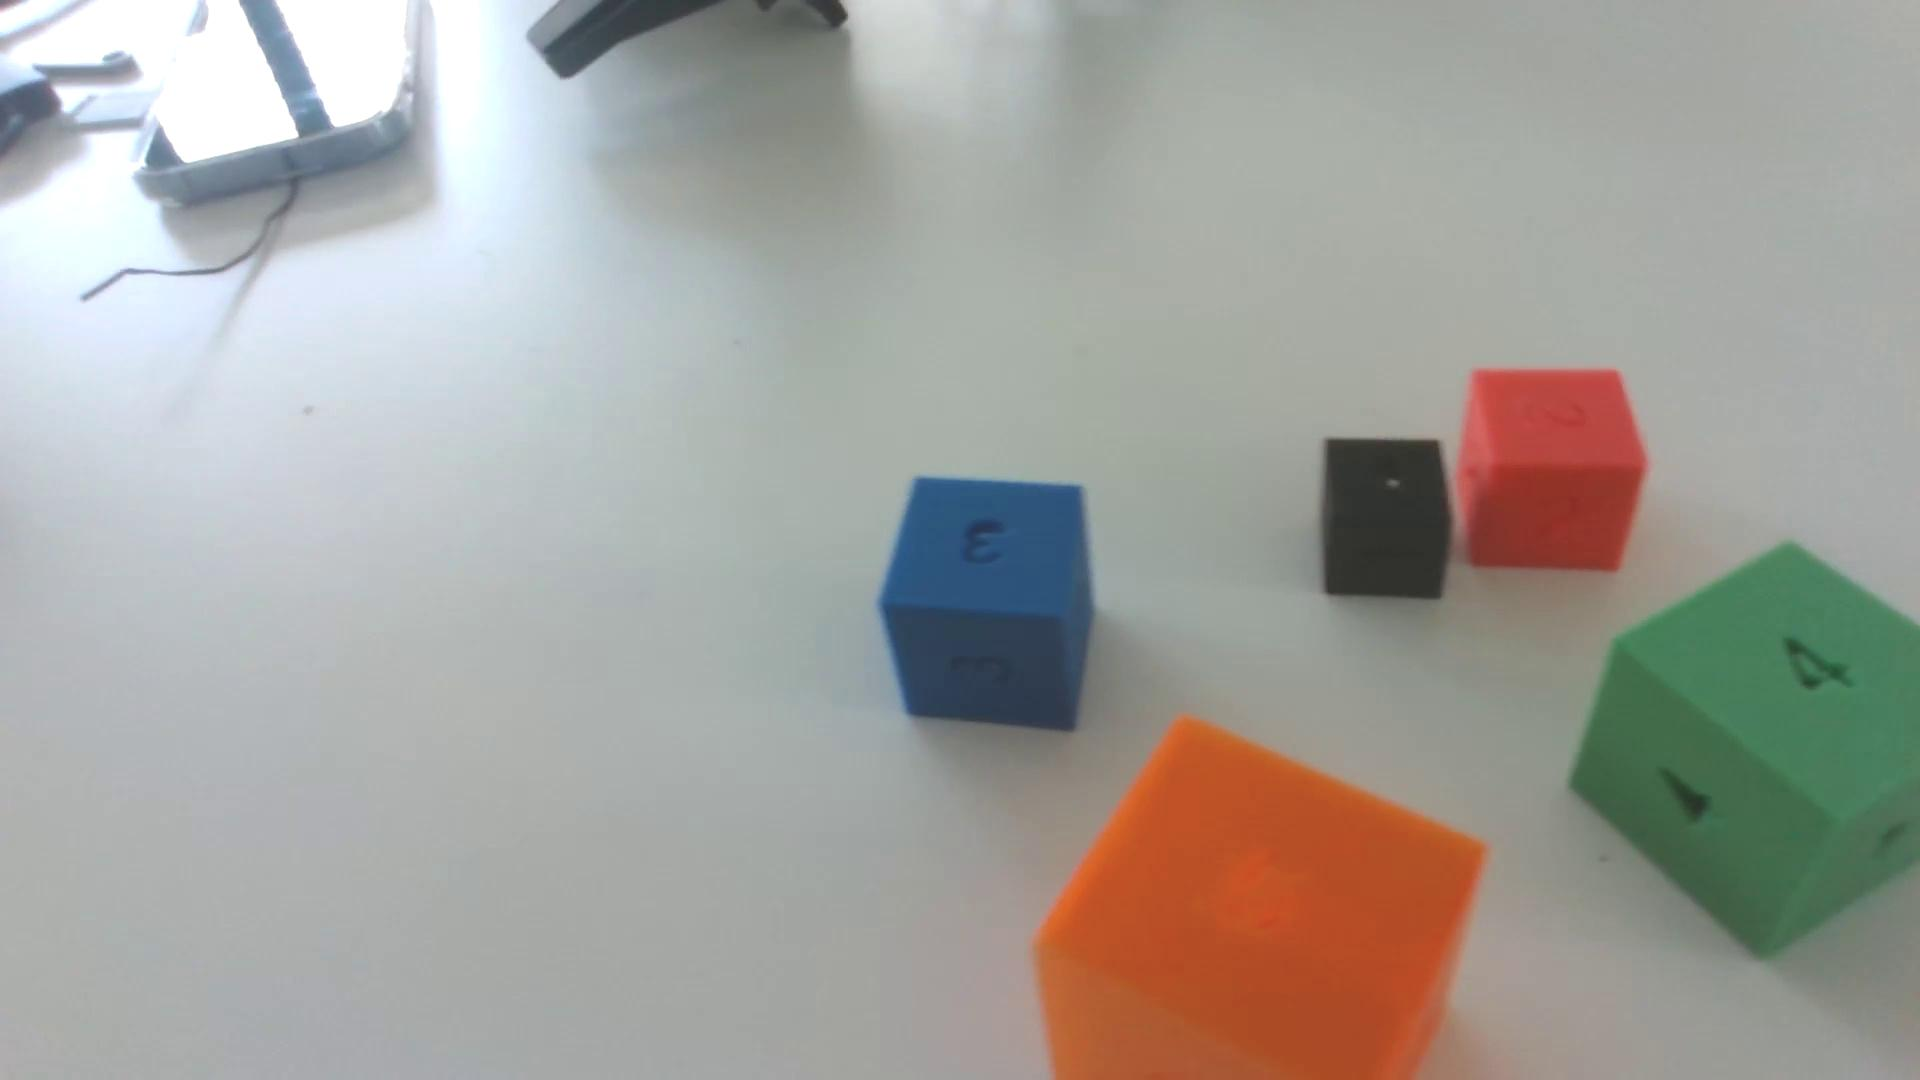black: (1320, 439, 1452, 601)
blue: (880, 477, 1095, 732)
green: (1571, 545, 1920, 957)
orange: (1034, 719, 1485, 1080)
red: (1455, 371, 1647, 574)
